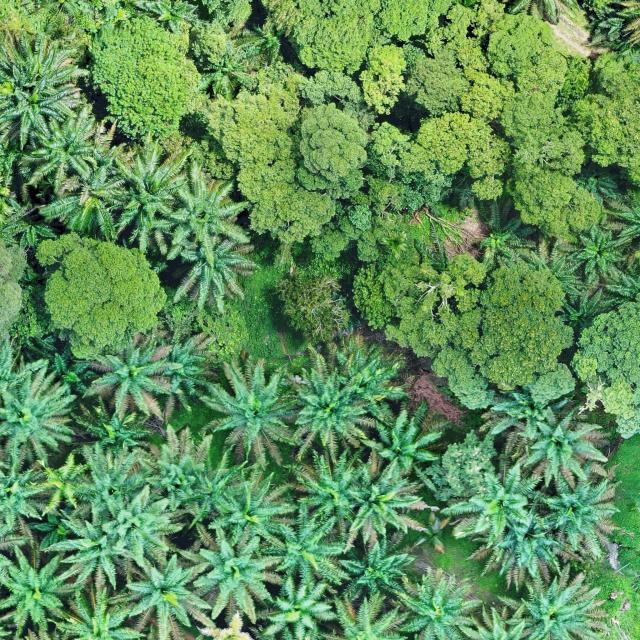0: (174, 515, 295, 631), (191, 356, 299, 472), (330, 459, 438, 556), (162, 157, 252, 270), (288, 351, 381, 460), (108, 134, 192, 254), (76, 332, 182, 427), (439, 457, 547, 550), (260, 496, 356, 596), (498, 556, 612, 640), (16, 101, 110, 202), (530, 462, 624, 562), (286, 443, 378, 545), (0, 350, 80, 467), (123, 544, 215, 640), (35, 507, 140, 590), (520, 406, 612, 498), (199, 473, 306, 552), (168, 230, 262, 314), (0, 543, 81, 640), (138, 422, 221, 516), (360, 398, 450, 484), (68, 442, 158, 524), (391, 563, 484, 640), (0, 66, 84, 150), (42, 584, 148, 640), (257, 575, 340, 640), (178, 452, 252, 524), (337, 528, 415, 592), (481, 385, 566, 441), (27, 447, 91, 517), (24, 498, 90, 561), (566, 222, 632, 283)
tree: (203, 62, 336, 244), (35, 235, 168, 362), (500, 90, 604, 242), (85, 13, 204, 140), (571, 300, 640, 440), (415, 110, 512, 202), (260, 0, 380, 73), (294, 102, 370, 197), (273, 266, 353, 344), (360, 42, 406, 118)
